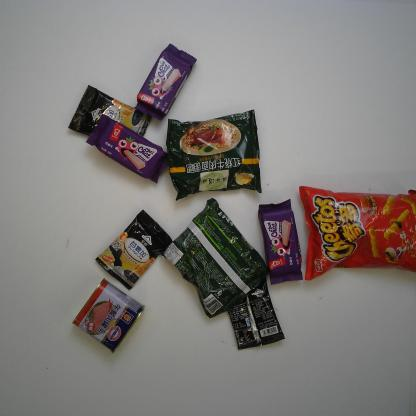Canned Food: (71, 277, 146, 355)
Dessert: (83, 113, 168, 185), (133, 42, 197, 122), (256, 198, 304, 286)
Instant Drink: (94, 208, 174, 292), (66, 84, 152, 138), (226, 276, 286, 352)
Instant Noodles: (161, 196, 270, 319), (164, 108, 263, 201)
Puffed Food: (296, 184, 416, 282)
